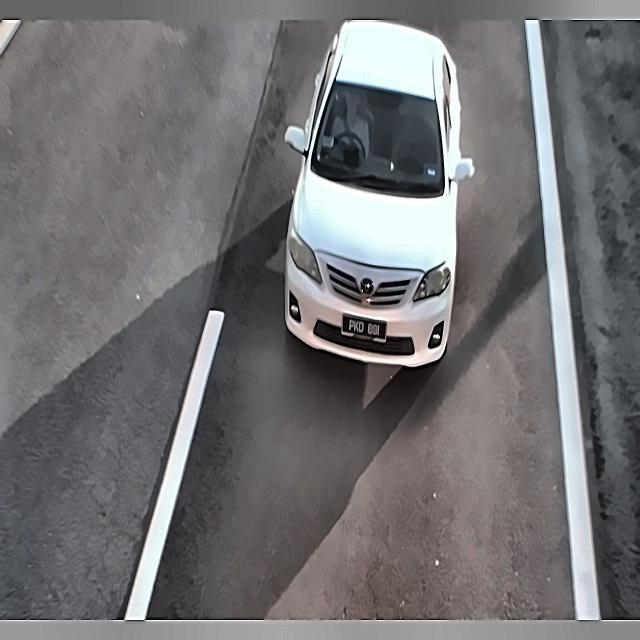car: (338, 311, 393, 342)
